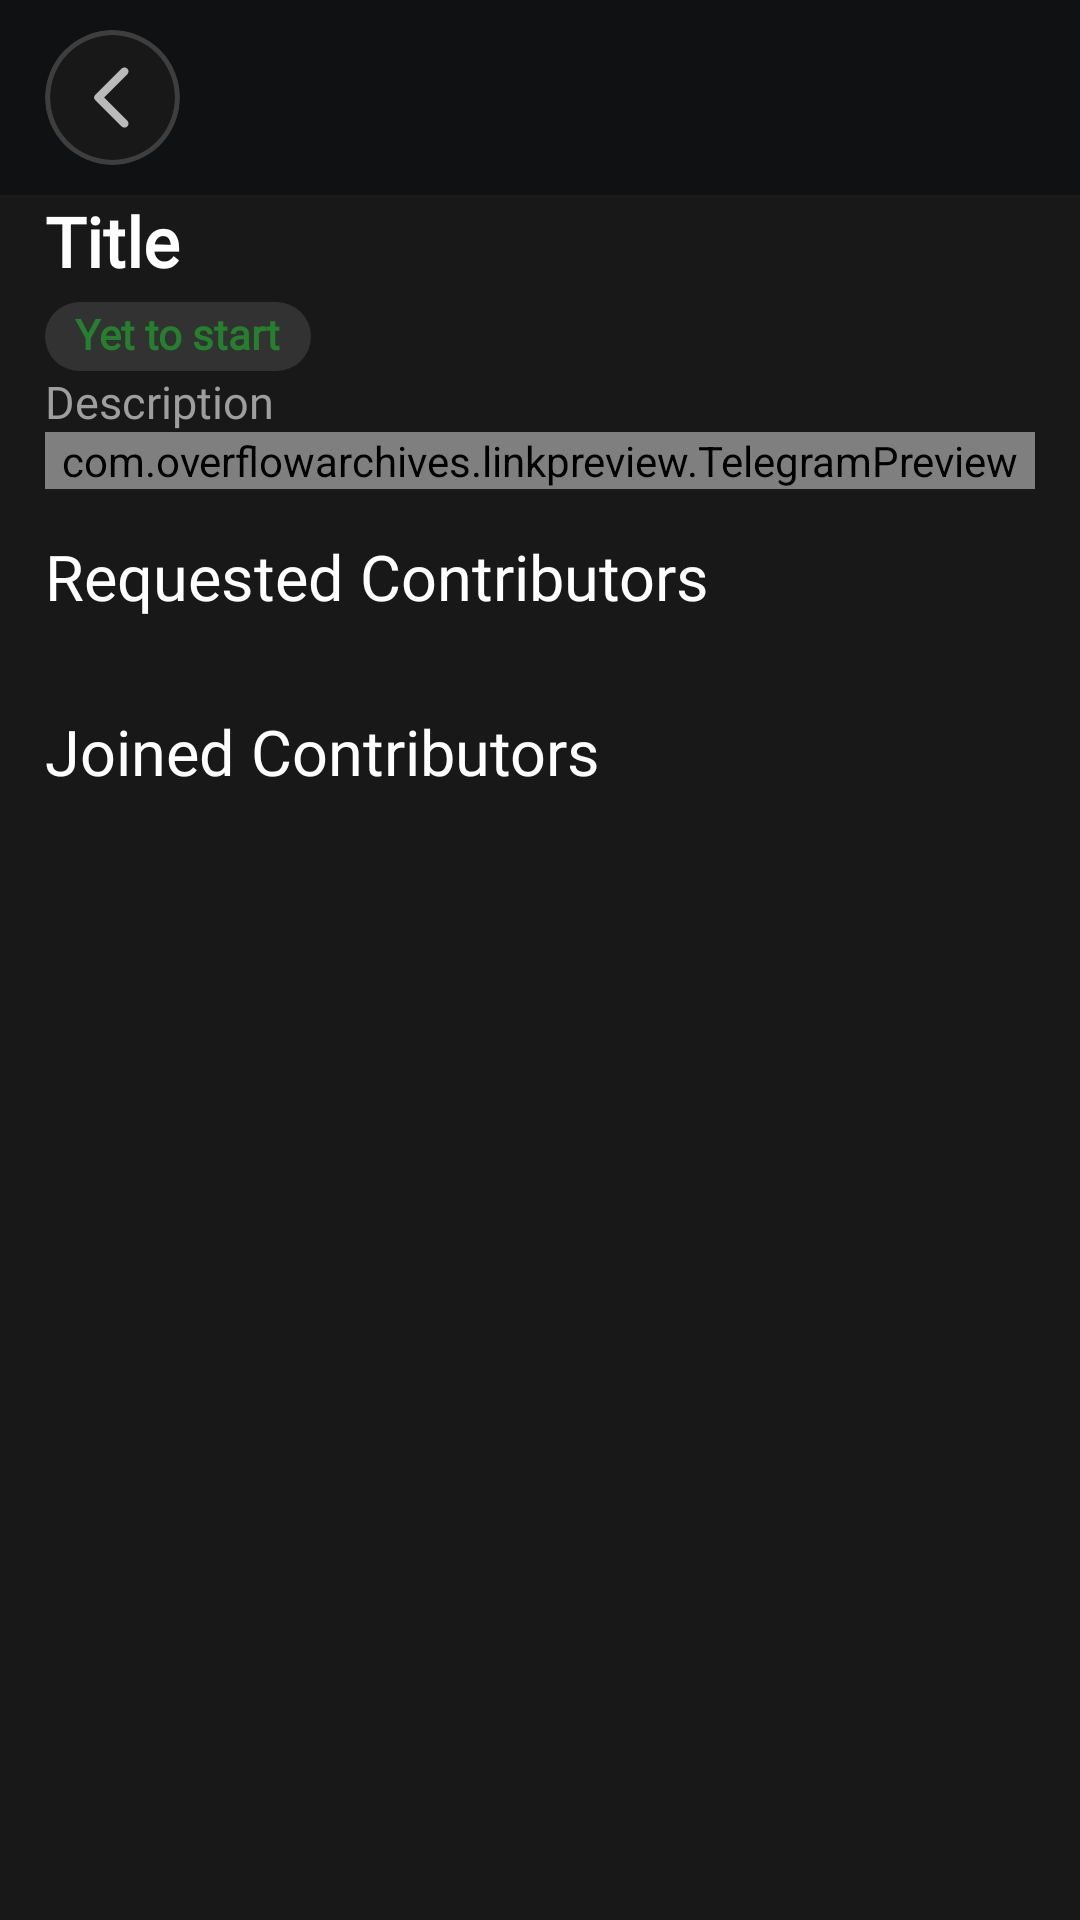

Where to tap for icons on this 1080px×1920px app screen, as point (x, y):
back: point (111, 97)
